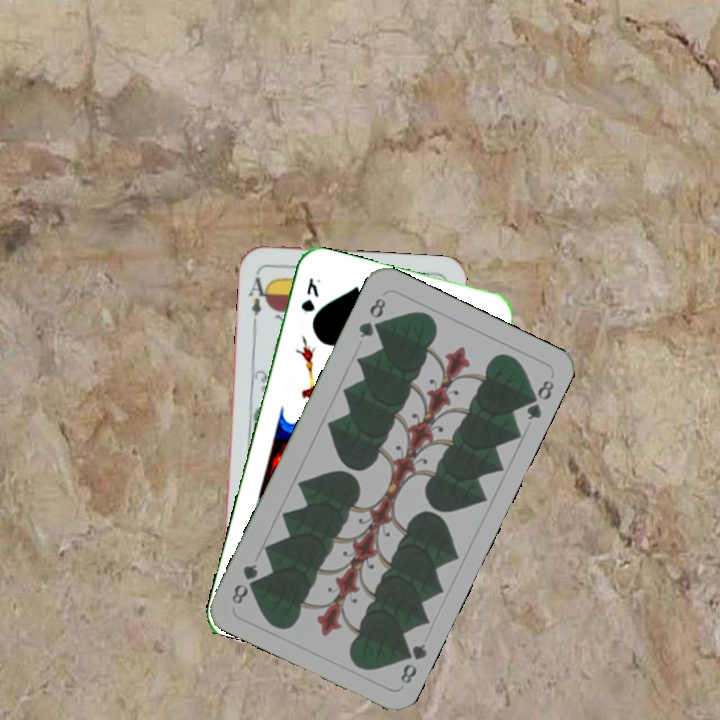EA: (244, 269, 272, 328)
G8: (354, 293, 389, 341), (396, 639, 430, 687)
GK: (297, 274, 322, 315)
